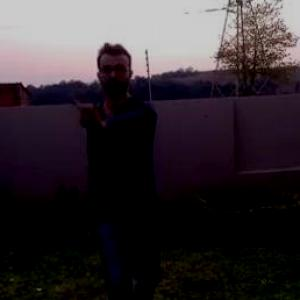takeoff-hand: (67, 90, 106, 129)
